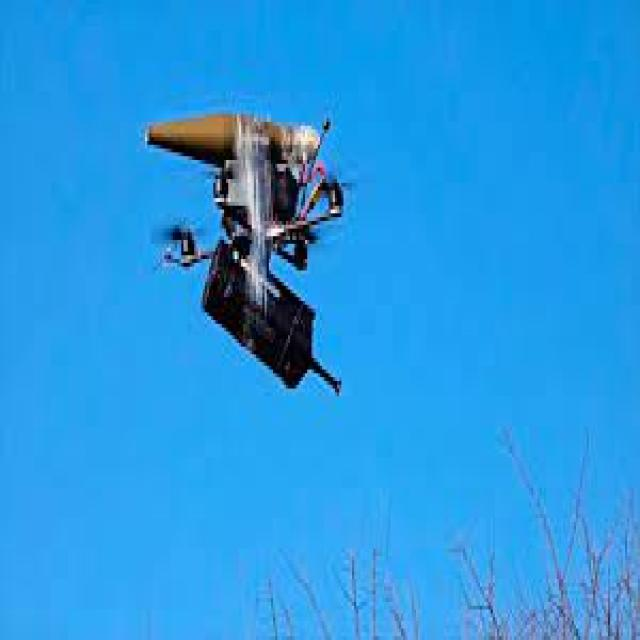drone: (130, 98, 376, 399)
